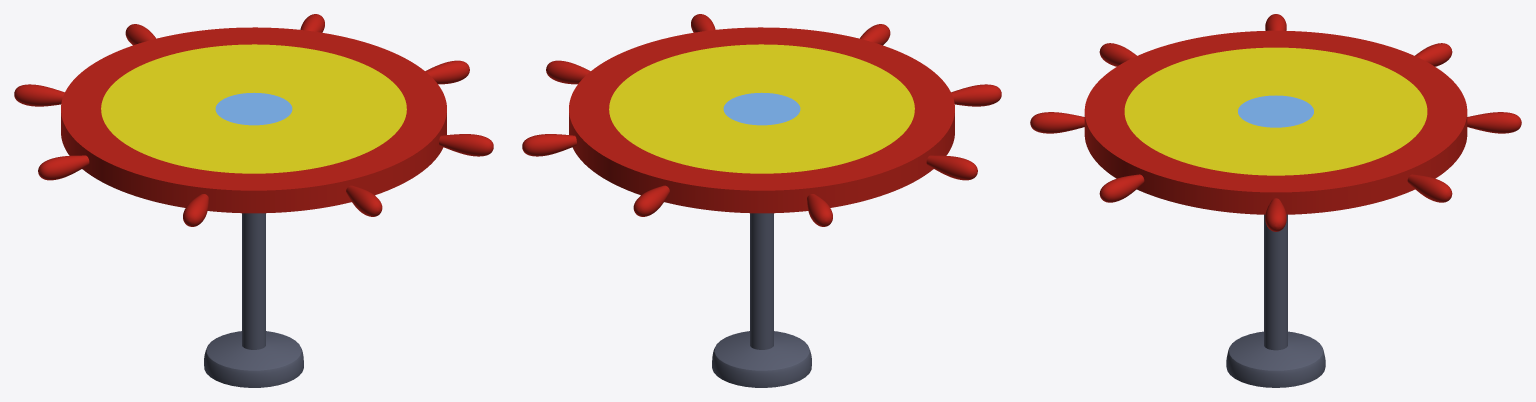
Rendered from krusty_krab_table.glb.
The picture shows the model from 3 angles, left to right: view 1: azimuth 30°, elevation 25°; view 2: azimuth 150°, elevation 25°; view 3: azimuth 270°, elevation 25°; orthographic projection.
Parts seen in each view (by area): view 1: Circle.001_1, Circle_2, Circle.002_0; view 2: Circle.001_1, Circle_2, Circle.002_0; view 3: Circle.001_1, Circle_2, Circle.002_0.
Part boxes in pixels (box(x1,y1,x2,y2)): Circle.001_1: box(61, 27, 446, 213); Circle_2: box(204, 213, 303, 387); Circle.002_0: box(14, 14, 493, 226); Circle.001_1: box(569, 27, 954, 213); Circle_2: box(712, 213, 811, 387); Circle.002_0: box(522, 14, 1001, 226); Circle.001_1: box(1084, 30, 1467, 214); Circle_2: box(1226, 214, 1325, 387); Circle.002_0: box(1030, 14, 1521, 231).
Size of the model in its own units: 9.92 by 5.69 by 9.92.
